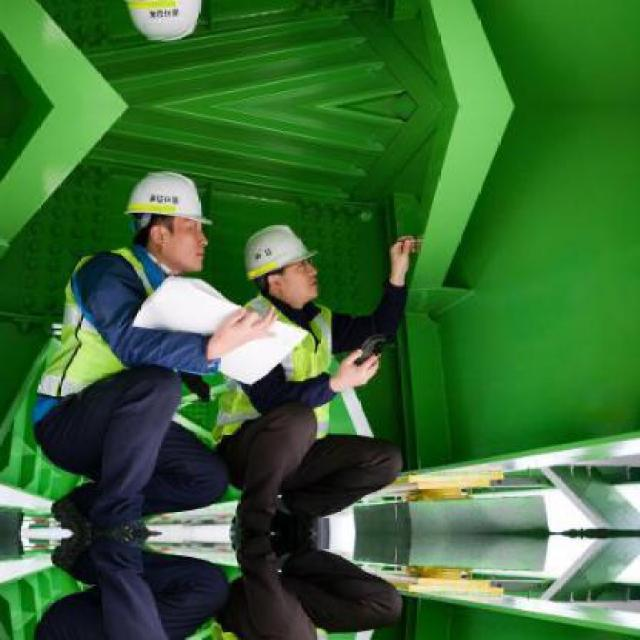Reflective-Jacket: (23, 244, 200, 407), (208, 297, 375, 453)
Safety-Helmet: (115, 162, 220, 237), (236, 216, 324, 285)
